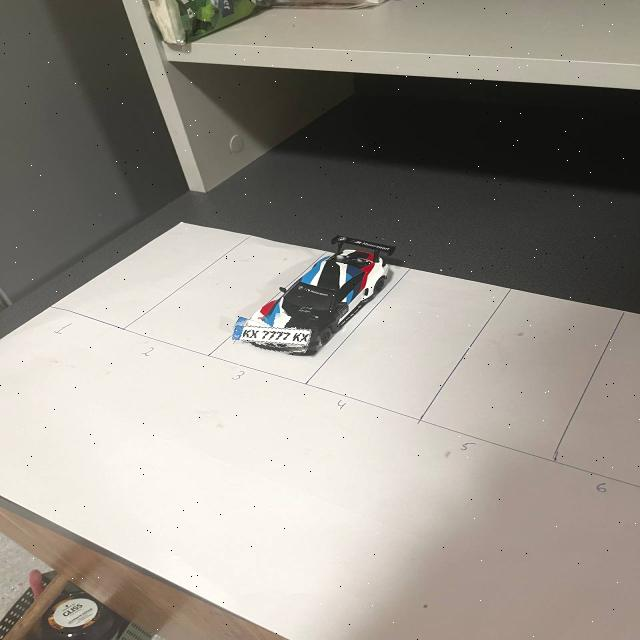KX 7777 KX: (233, 322, 319, 349)
